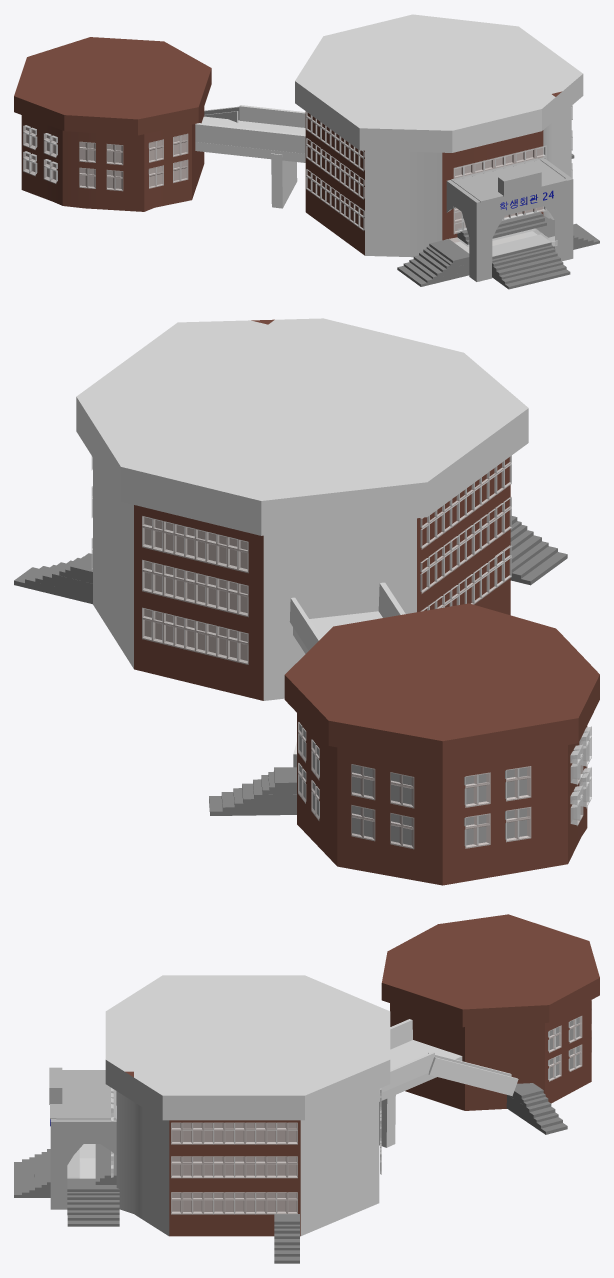
File: 학생회관 모델링.fbx
The picture shows the model from 3 angles, top to bottom: view 1: azimuth 30°, elevation 25°; view 2: azimuth 150°, elevation 25°; view 3: azimuth 270°, elevation 25°; orthographic projection. The views are drawn at different scales.
Visible parts, largest first — view 1: pCube15, pPlane14, pCube20, pPlane13, pPlane11, pCube17, pCube11, pasted__pasted__pPlane645, pasted__pasted__pPlane741, pasted__pasted__pPlane736, pasted__pasted__pPlane737, pCube6 (+7 smaller); view 2: pCube15, pPlane14, pCube15_f_194_, pasted__pasted__pPlane743, pasted__pasted__pPlane742, pPlane15, pPlane12, pPlane11, pasted__pasted__pPlane737, pasted__pasted__pPlane727, pCube11, pCube18; view 3: pCube15, pPlane14, pasted__pasted__pPlane691, pCube20, pPlane16, pCube19, pPlane15, pPlane13, pCube11, pasted__pasted__pPlane727, pPlane12, pCube18 (+4 smaller).
Part boxes in pixels (<box>): pCube15: <box>295,14,583,257</box>; pPlane14: <box>14,37,211,211</box>; pCube20: <box>446,158,573,281</box>; pPlane13: <box>492,235,570,289</box>; pPlane11: <box>397,239,469,286</box>; pCube17: <box>195,123,305,153</box>; pCube11: <box>195,116,305,162</box>; pasted__pasted__pPlane645: <box>453,145,546,234</box>; pasted__pasted__pPlane741: <box>79,141,123,191</box>; pasted__pasted__pPlane736: <box>148,133,188,188</box>; pasted__pasted__pPlane737: <box>23,125,57,183</box>; pCube6: <box>446,228,557,256</box>; pCube15: <box>76,318,528,700</box>; pPlane14: <box>284,603,599,885</box>; pCube15_f_194_: <box>142,516,248,664</box>; pasted__pasted__pPlane743: <box>464,766,531,848</box>; pasted__pasted__pPlane742: <box>351,764,414,849</box>; pPlane15: <box>209,767,296,815</box>; pPlane12: <box>14,553,92,604</box>; pPlane11: <box>510,516,567,585</box>; pasted__pasted__pPlane737: <box>570,726,591,826</box>; pasted__pasted__pPlane727: <box>298,721,319,820</box>; pCube11: <box>293,611,382,653</box>; pCube18: <box>289,597,321,650</box>; pCube15: <box>105,975,390,1236</box>; pPlane14: <box>381,914,599,1110</box>; pasted__pasted__pPlane691: <box>171,1122,297,1214</box>; pCube20: <box>50,1070,116,1209</box>; pPlane16: <box>67,1178,119,1226</box>; pCube19: <box>428,1052,518,1096</box>; pPlane15: <box>506,1083,567,1134</box>; pPlane13: <box>14,1149,79,1197</box>; pCube11: <box>379,1040,462,1101</box>; pasted__pasted__pPlane727: <box>548,1016,582,1081</box>; pPlane12: <box>274,1214,299,1263</box>; pCube18: <box>379,1052,434,1093</box>.
Bounding box in the file's own units: 8.72 × 2.56 × 8.83.
